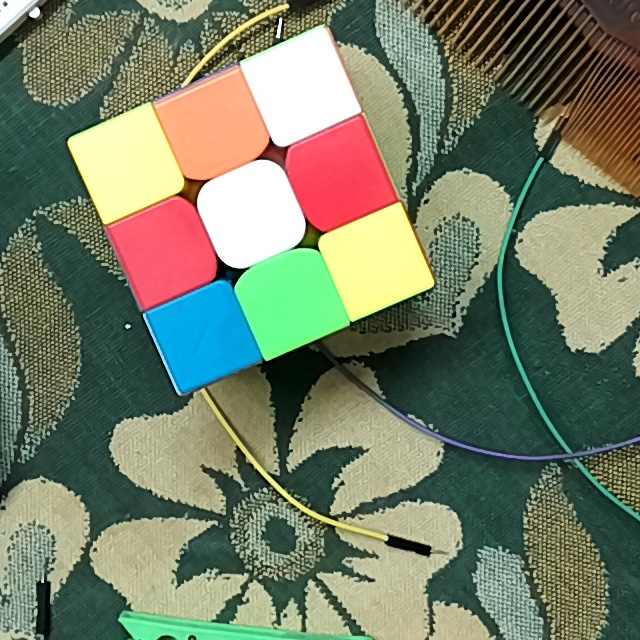tile: (265, 53, 331, 125), (219, 178, 286, 247), (94, 130, 159, 198), (179, 95, 247, 160), (256, 269, 325, 333), (310, 140, 373, 210), (171, 305, 235, 369), (136, 217, 197, 284), (341, 233, 408, 294)
